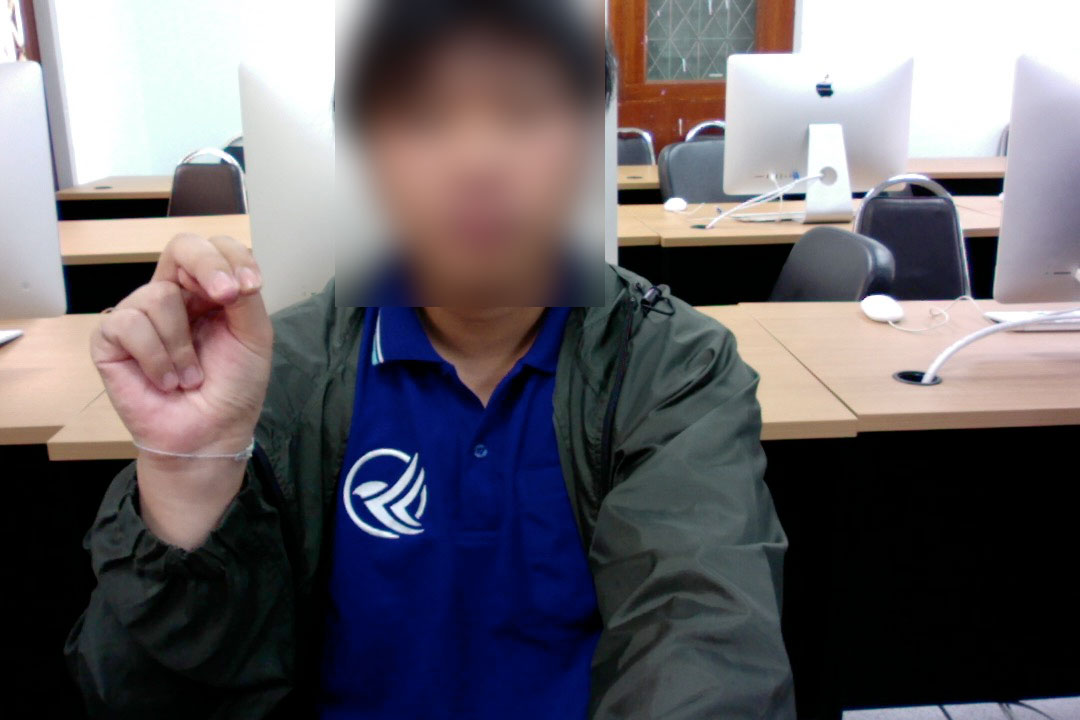nor: (81, 220, 279, 528)
